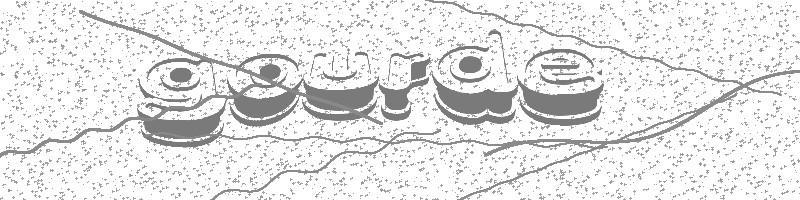d: (433, 30, 519, 121)
e: (519, 49, 604, 125)
g: (137, 58, 226, 147)
o: (228, 54, 303, 126)
r: (380, 53, 430, 120)
u: (303, 52, 379, 119)
